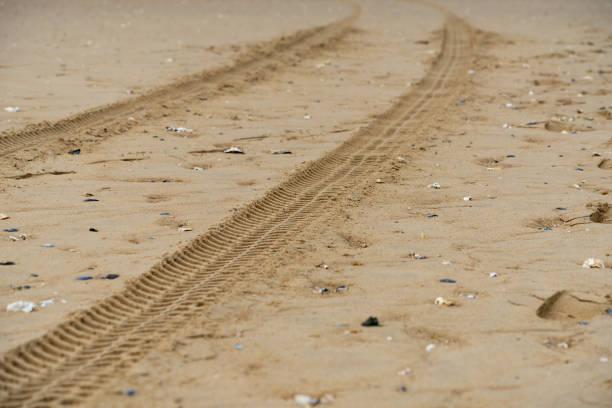vehicle_track: (0, 15, 472, 406), (0, 6, 359, 156)
